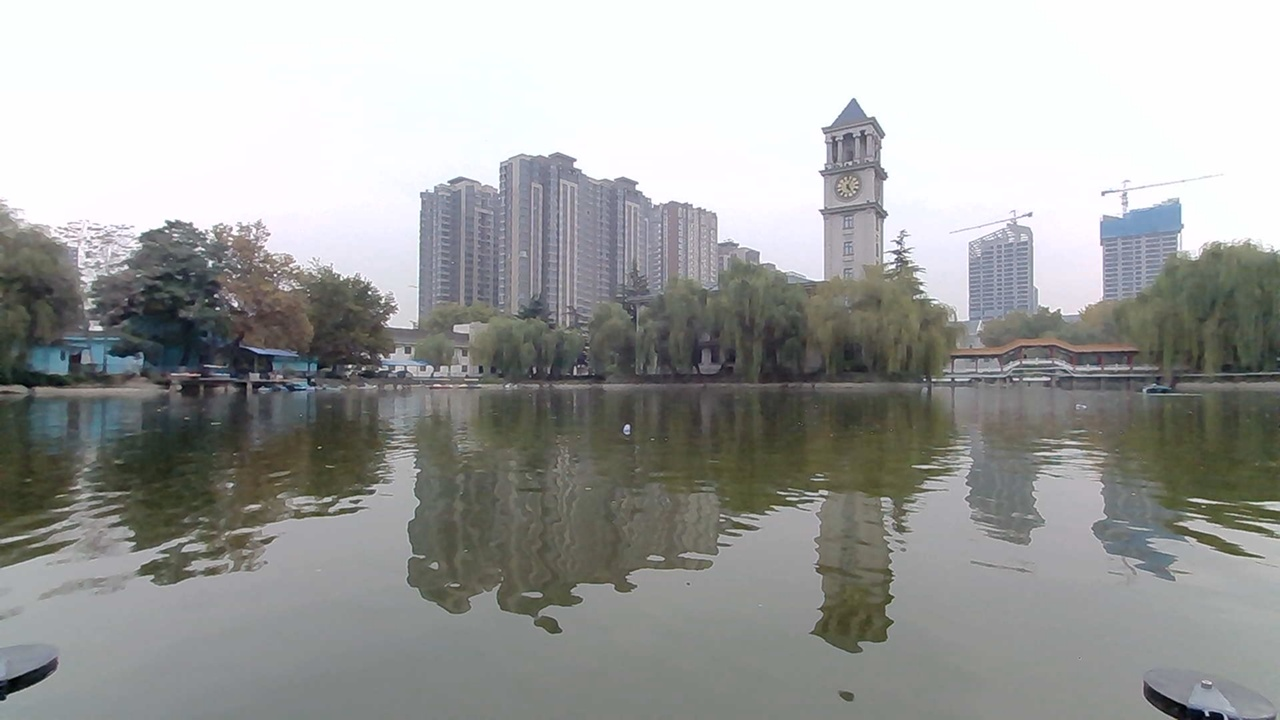bottle: (609, 412, 661, 444), (1071, 397, 1103, 416)
